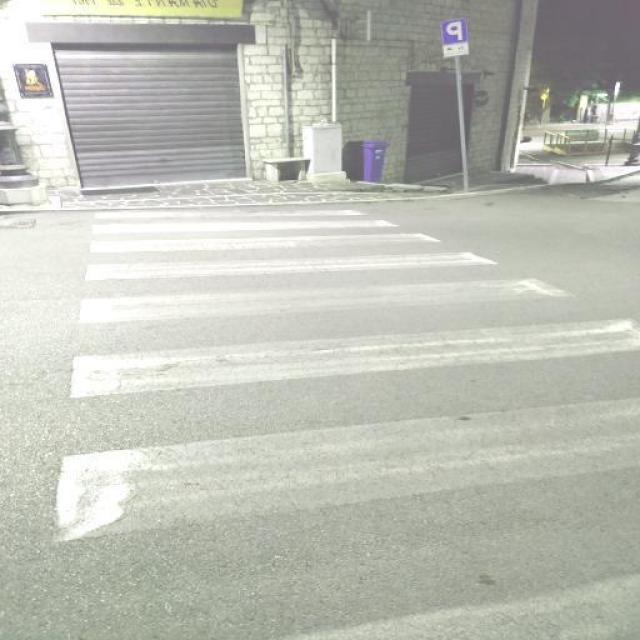crosswalk: (49, 205, 640, 638)
